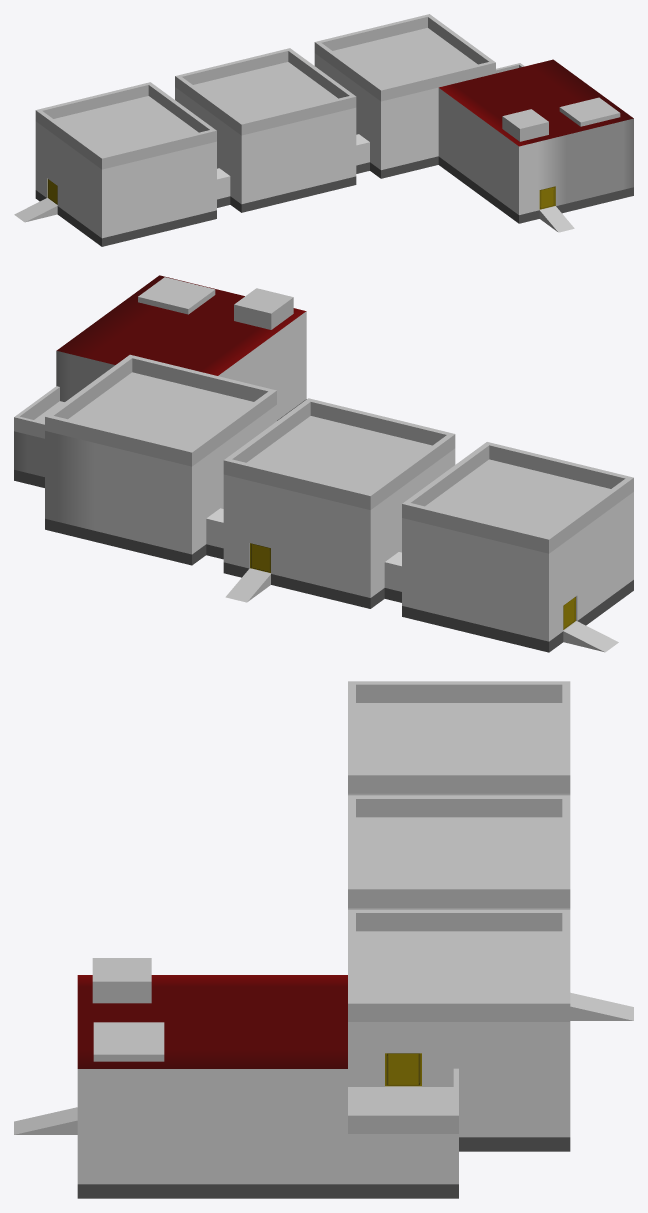
File: Area12_Factory2.fbx
The picture shows the model from 3 angles, top to bottom: view 1: azimuth 30°, elevation 25°; view 2: azimuth 150°, elevation 25°; view 3: azimuth 270°, elevation 25°; orthographic projection. The views are drawn at different scales.
Parts seen in each view (by area): view 1: Factory2Body; view 2: Factory2Body; view 3: Factory2Body.
Part boxes in pixels (x1=…): Factory2Body: x1=14, y1=14, x2=633, y2=246; Factory2Body: x1=14, y1=275, x2=633, y2=652; Factory2Body: x1=14, y1=681, x2=633, y2=1198.
Bounding box in the file's own units: 59 × 39 × 10.5.
